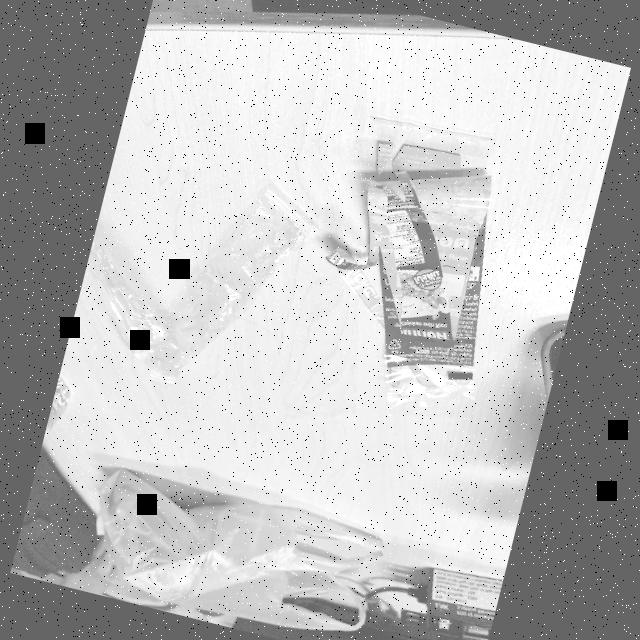scrap_plastic: (294, 105, 550, 435), (143, 162, 324, 422), (62, 216, 192, 384)
